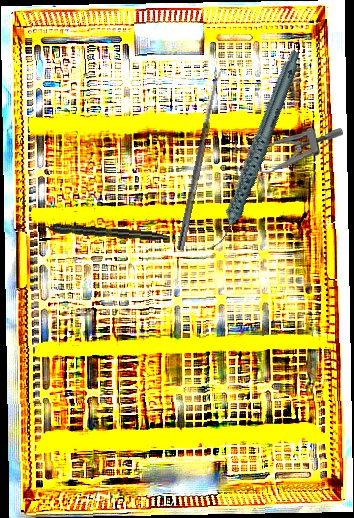Handpiece: (172, 48, 339, 253), (33, 220, 168, 243)
Speculum: (232, 127, 345, 178)
Surgical Spoon: (176, 67, 224, 251)
